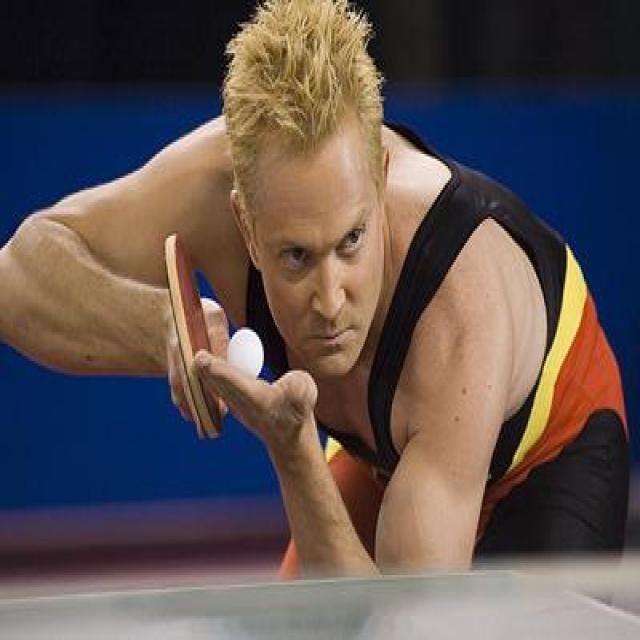ping-pong-ball: (229, 327, 264, 383)
